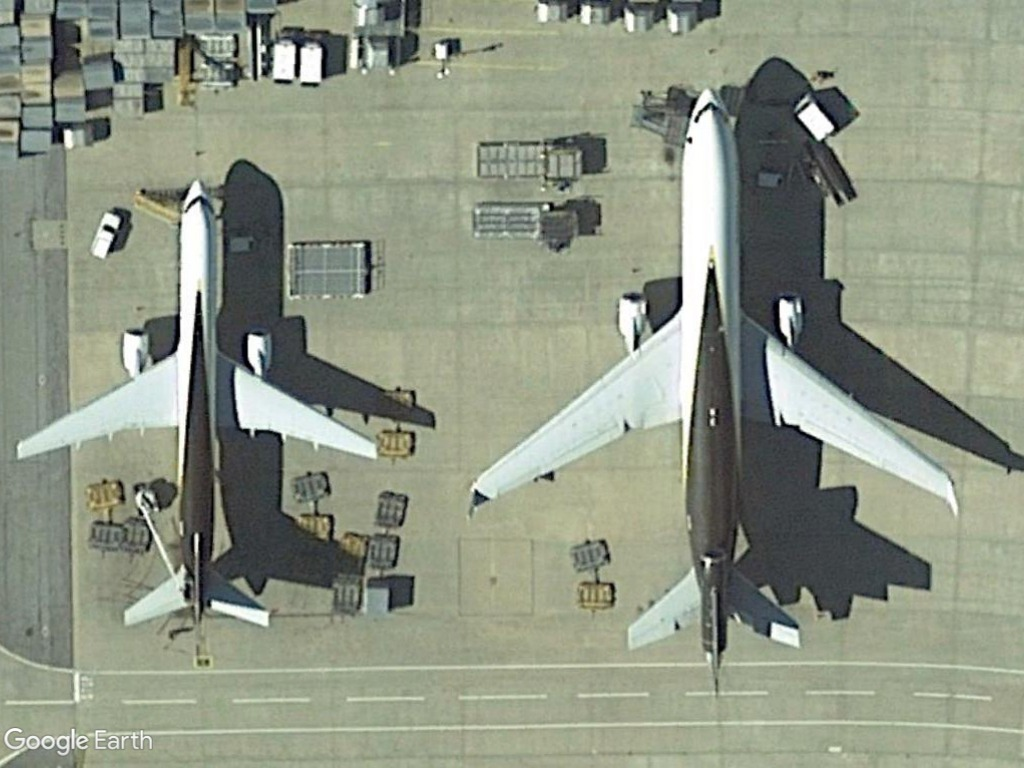airliner: (455, 80, 965, 668), (5, 176, 383, 639)
van: (84, 203, 126, 263)
